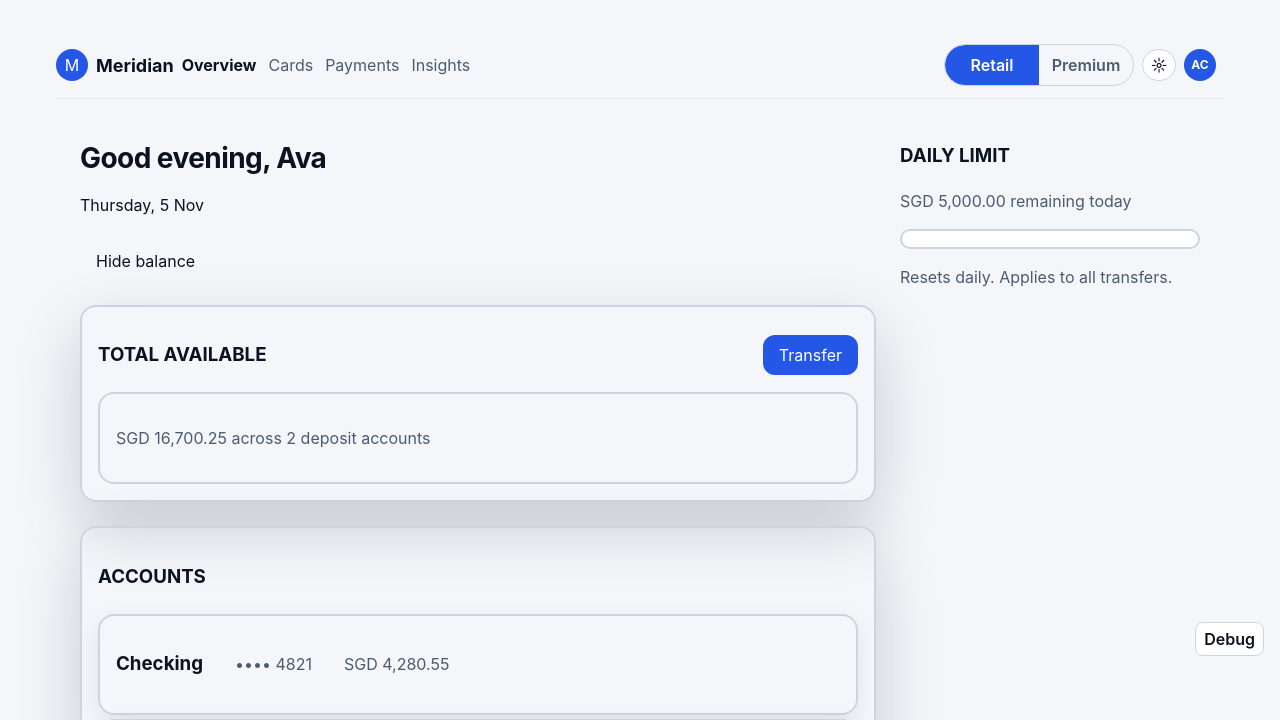
Test: starter › shows an error when sending an amount over balance and sends no request
Step 1. Click the button "Transfer" → (810, 355), box [763,335,858,375]
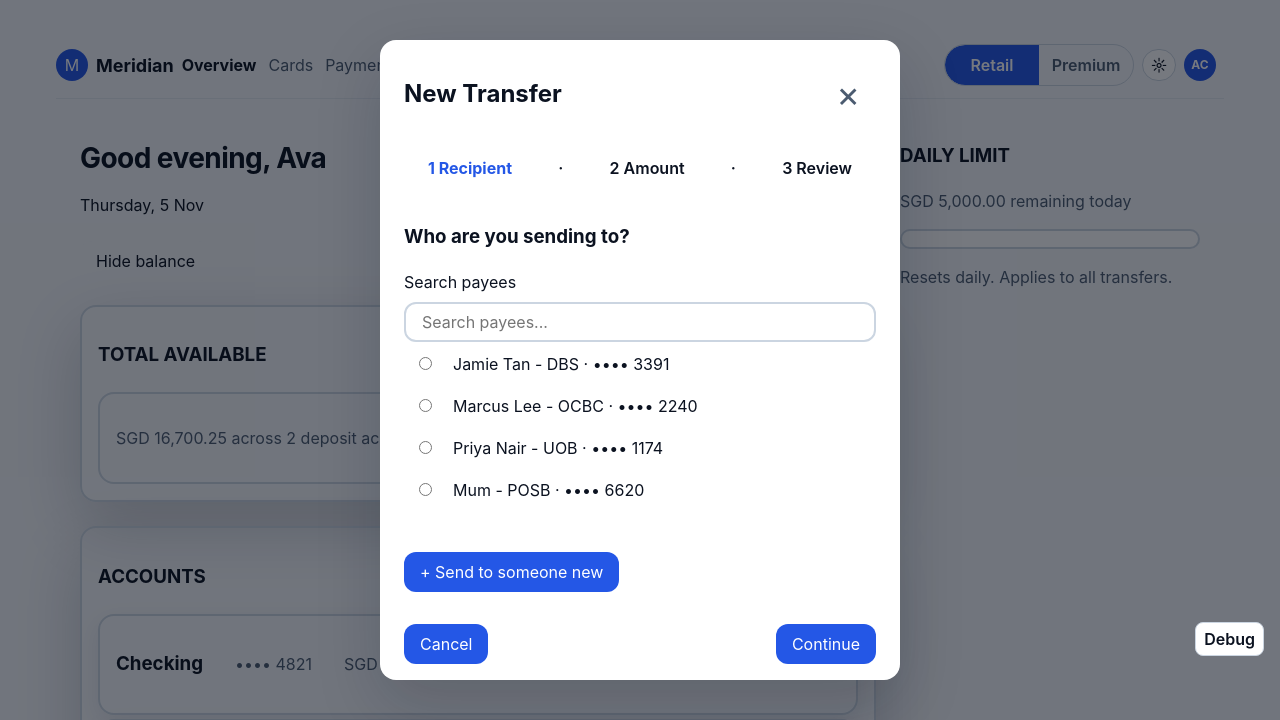
Step 2. Click the radio button labelled "Jamie Tan - DBS · •••• 3391" → (426, 363), box [419,357,432,370]
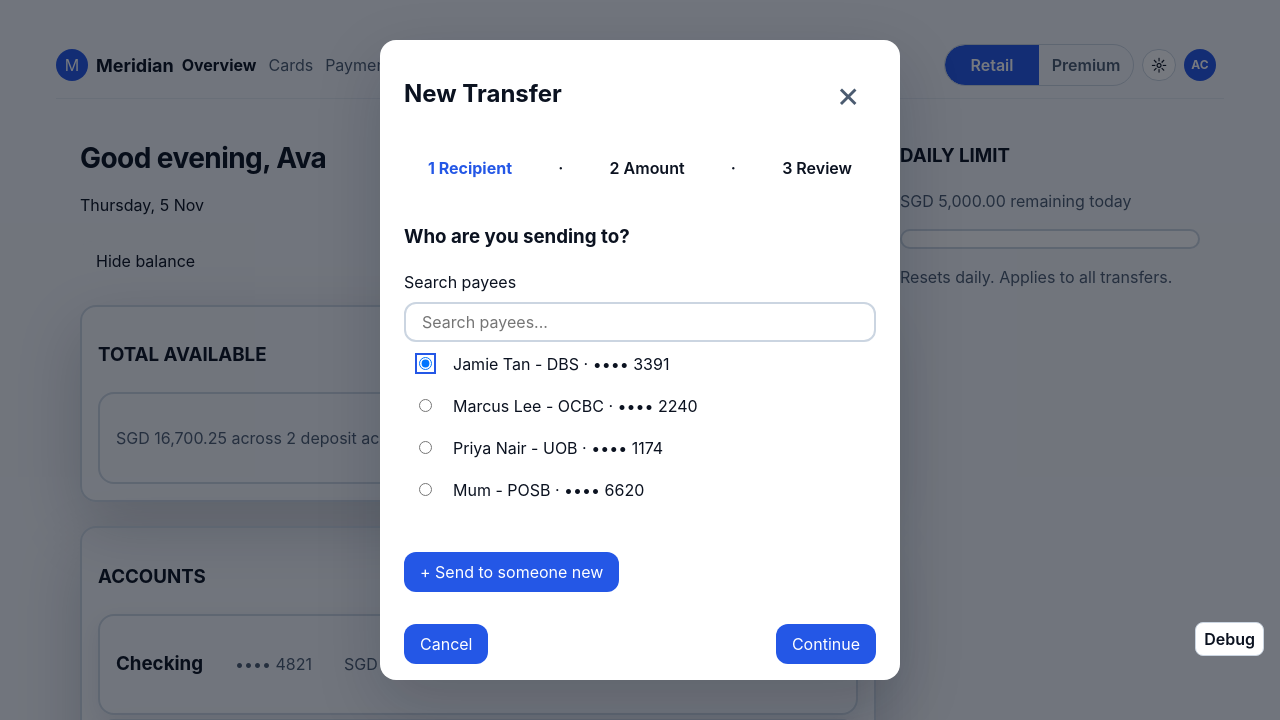
Step 3. Click the button "Continue" → (826, 644), box [776,624,876,664]
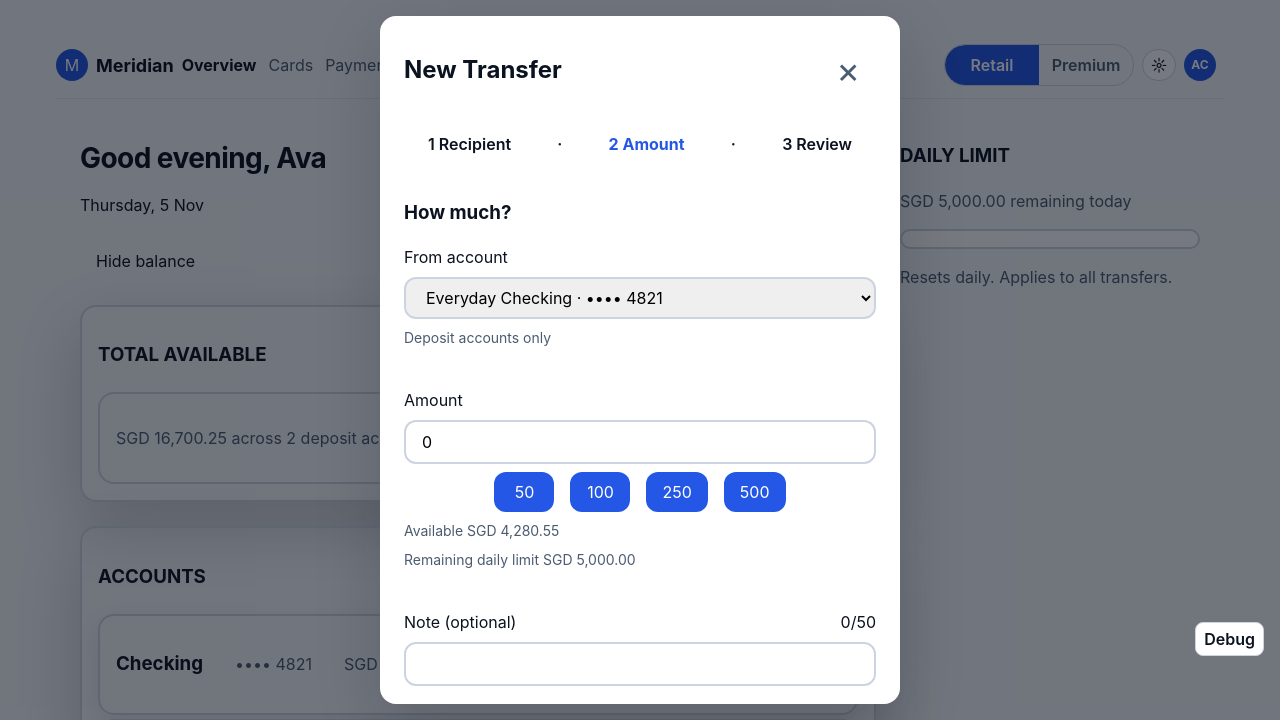
Step 4. Replace the text in the number field labelled "Amount" with "5000" → (640, 442), box [404,420,876,464]
(page scrolled)
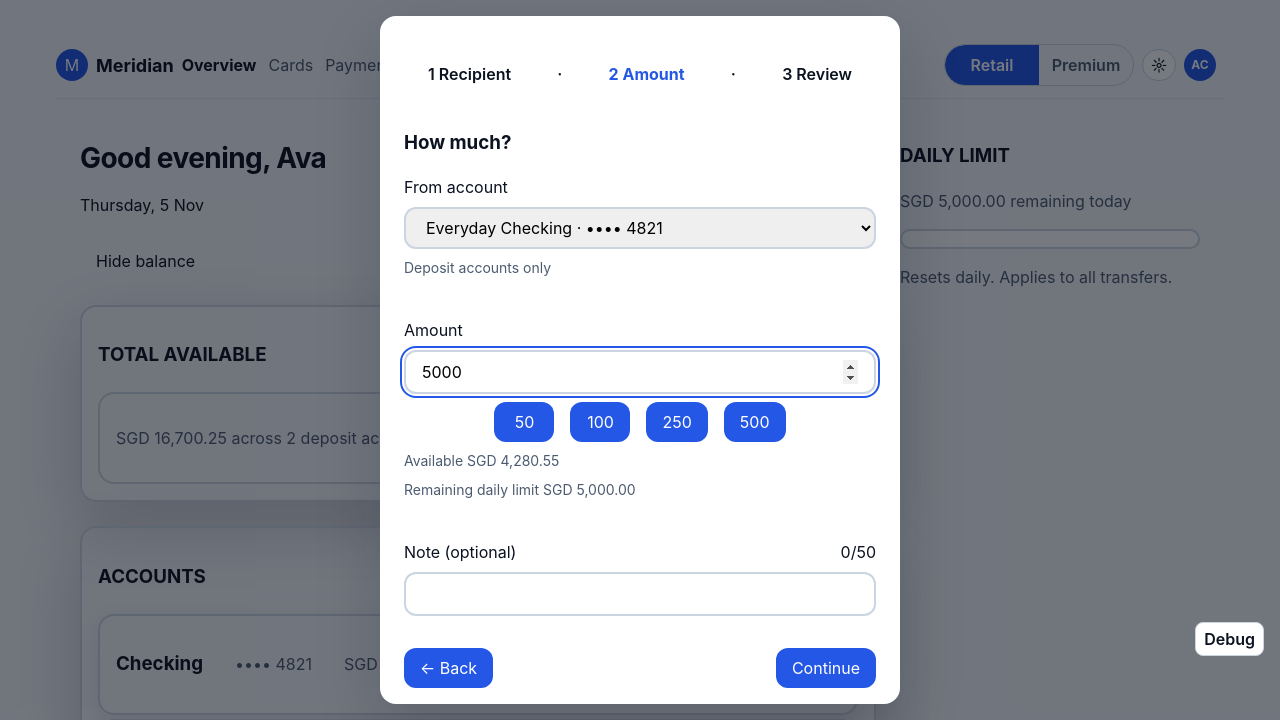
Step 5. Click the button "Continue" → (826, 668), box [776,648,876,688]
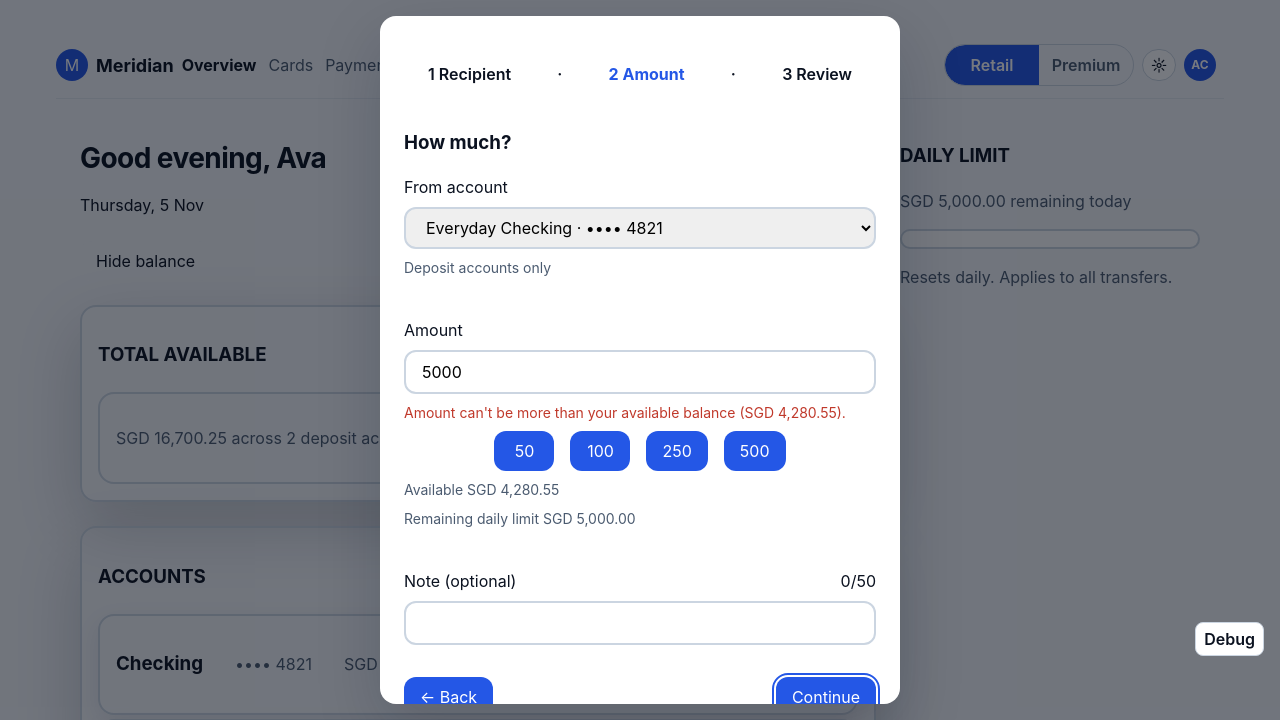
expect the text "more than your available balance" is shown: met, box [404,404,846,421]
